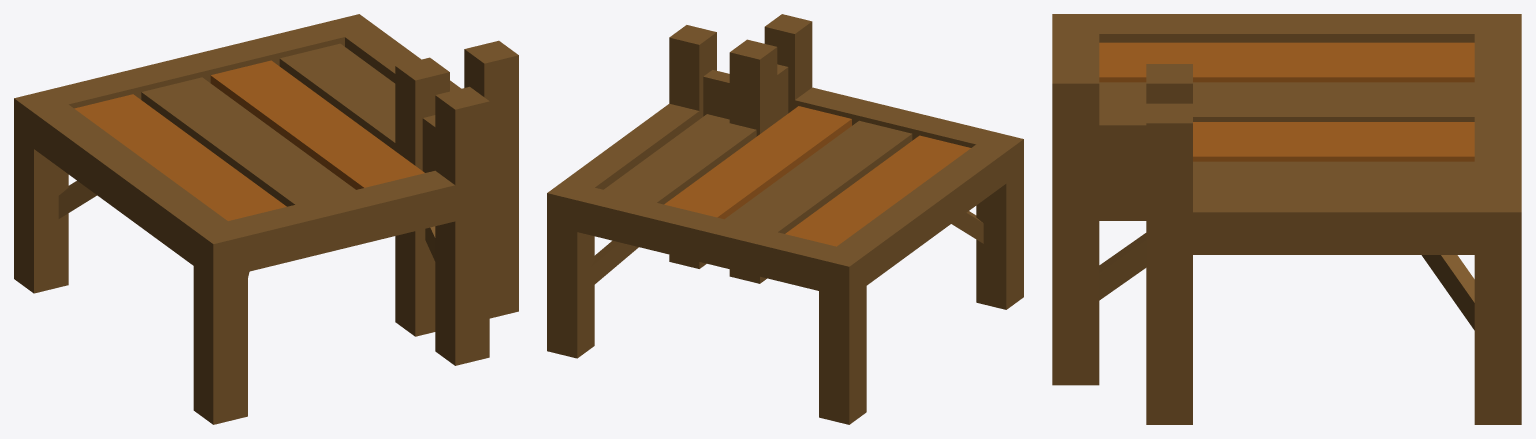
File: InnerCorner.fbx
3 renders of one model, left to right at view 1: azimuth 30°, elevation 25°; view 2: azimuth 150°, elevation 25°; view 3: azimuth 270°, elevation 25°, orthographic. The views are drawn at different scales.
Visible parts, largest first — view 1: Bridge - Inner Corner; view 2: Bridge - Inner Corner; view 3: Bridge - Inner Corner.
Part boxes in pixels (x1,y1,x2,y2): Bridge - Inner Corner: (14, 14, 518, 424); Bridge - Inner Corner: (547, 14, 1023, 424); Bridge - Inner Corner: (1052, 14, 1521, 424).
Size of the model in its own units: 100 by 70.89 by 100.
